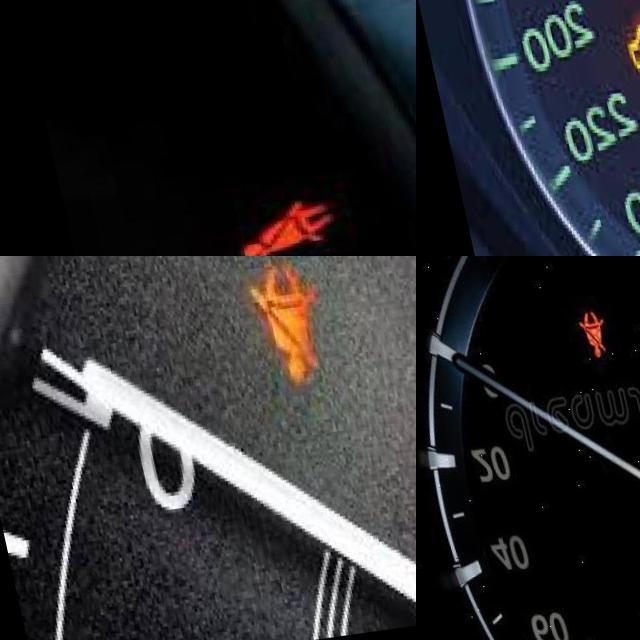Seat Belt: (238, 270, 312, 392), (212, 197, 317, 256), (566, 317, 601, 369)
